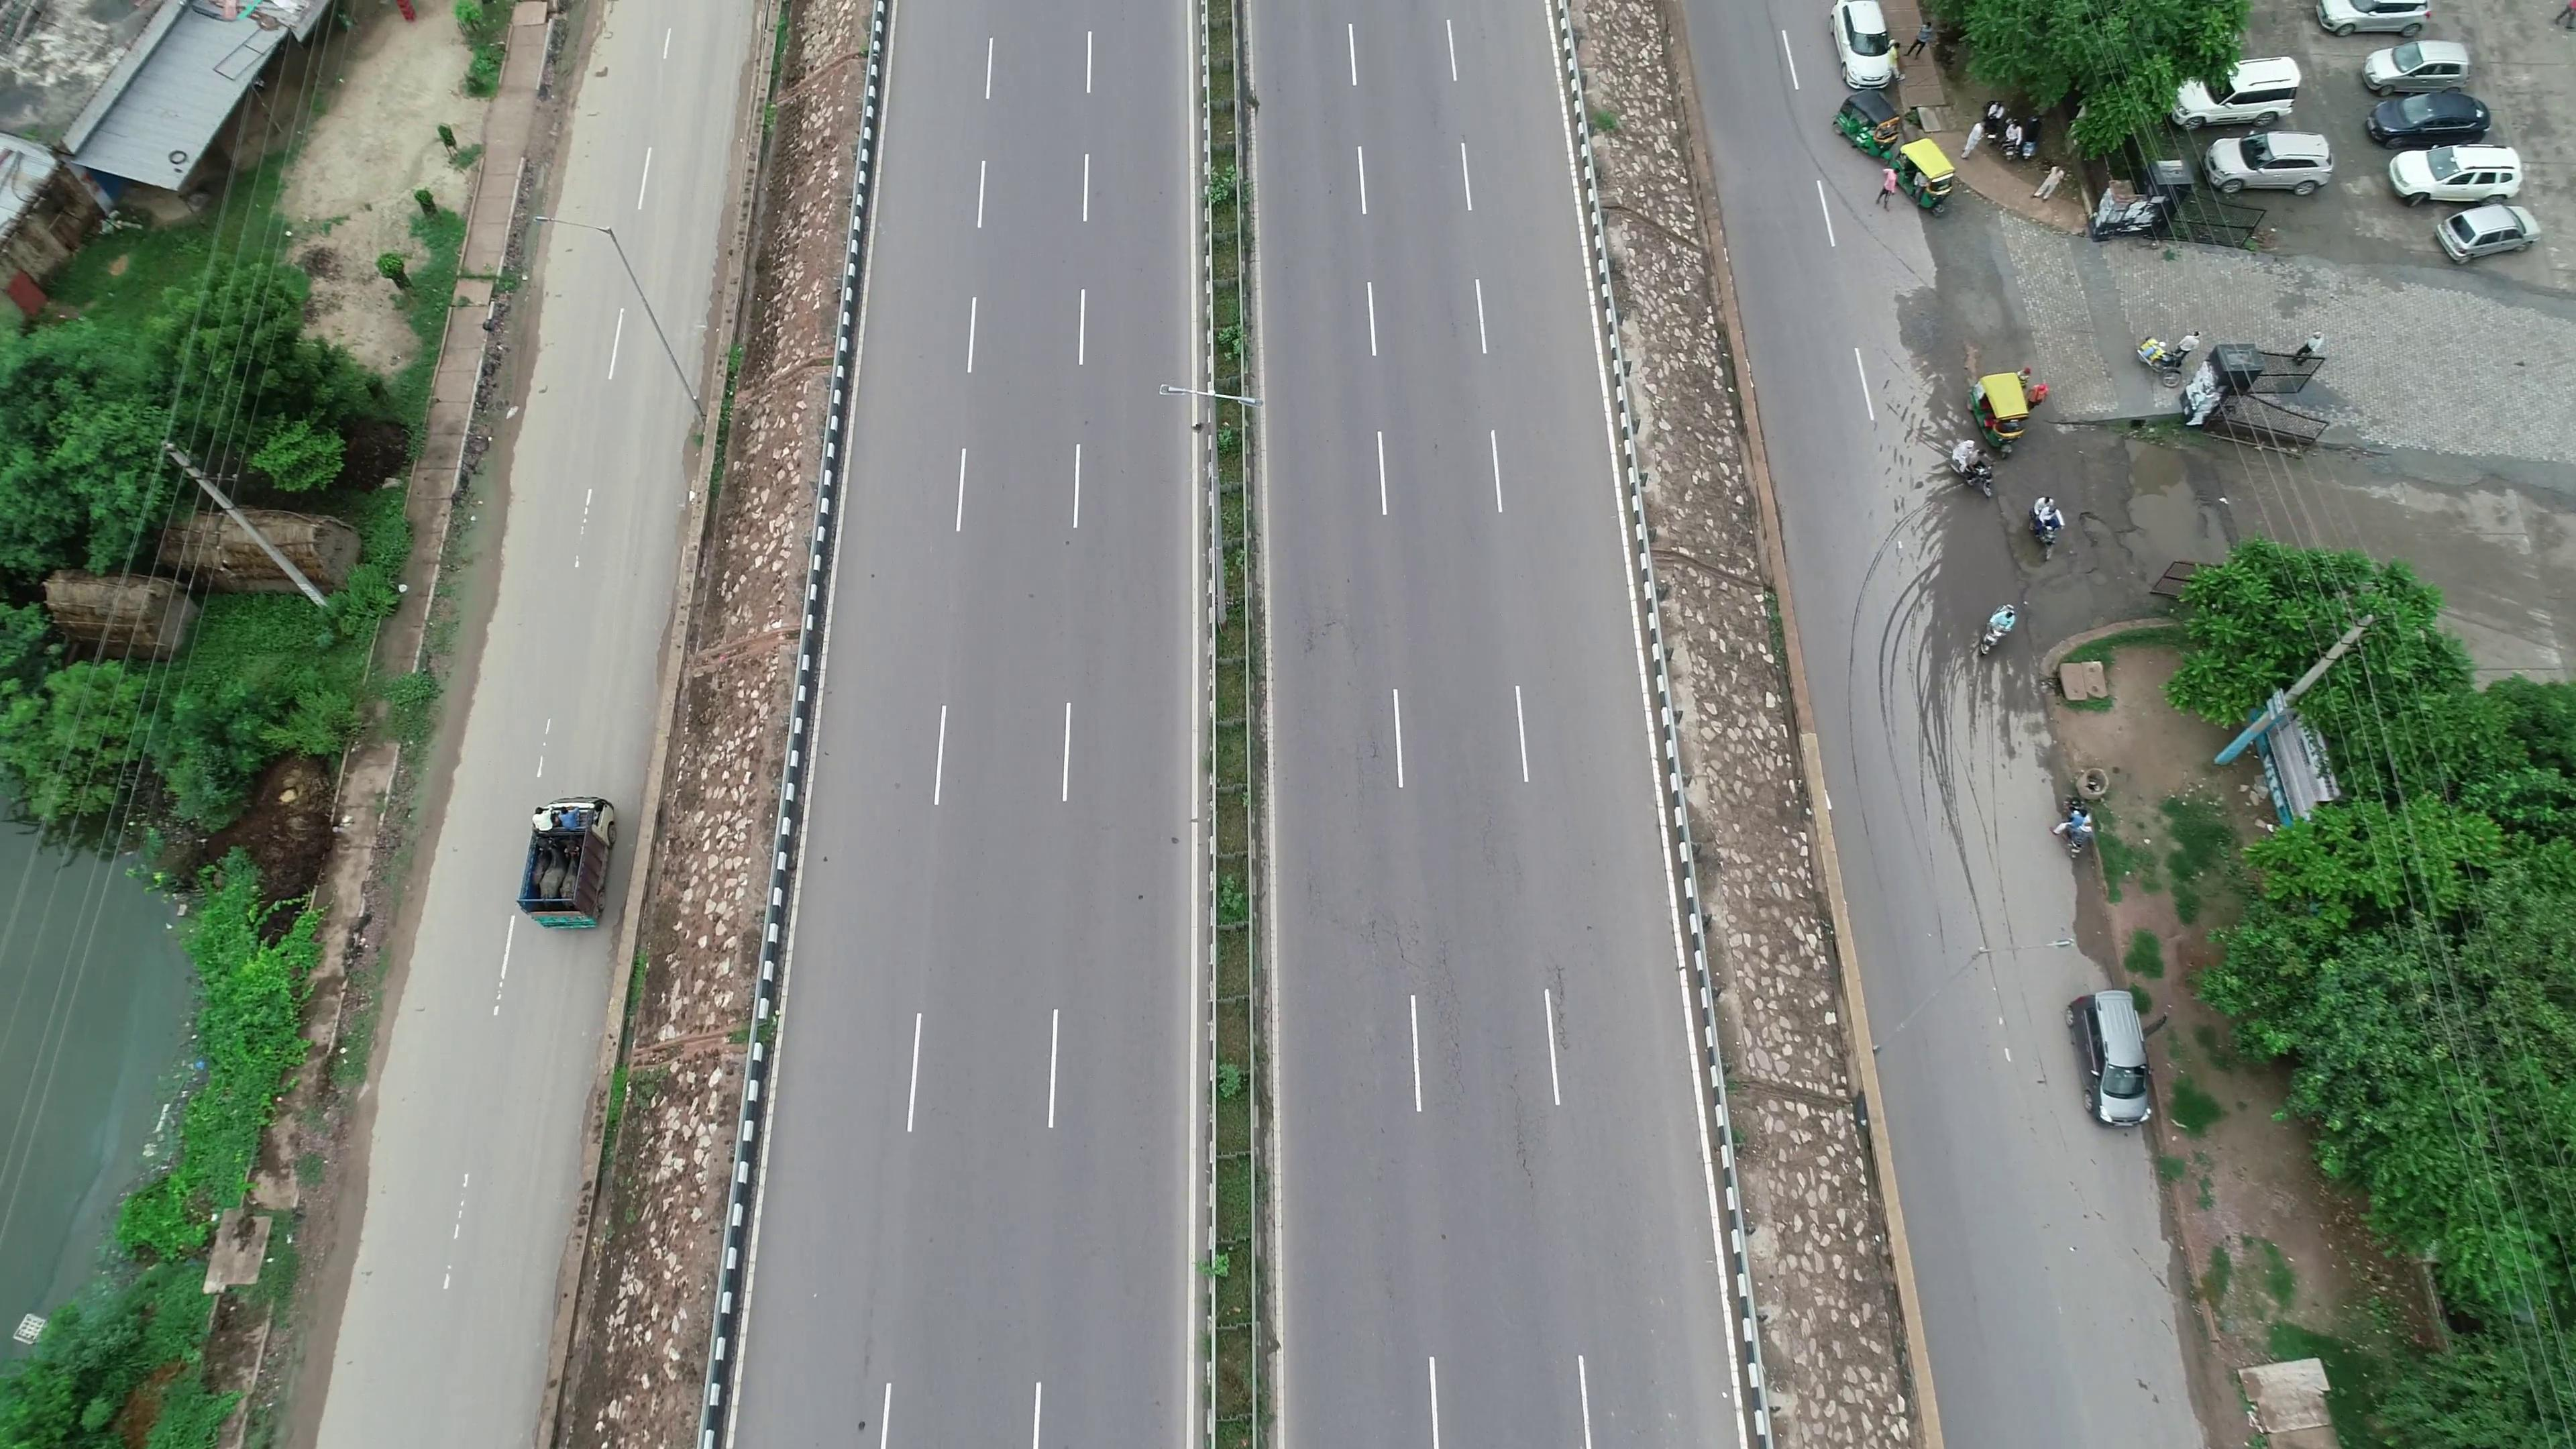Alligator_cracks: (1391, 924, 1477, 1102)
